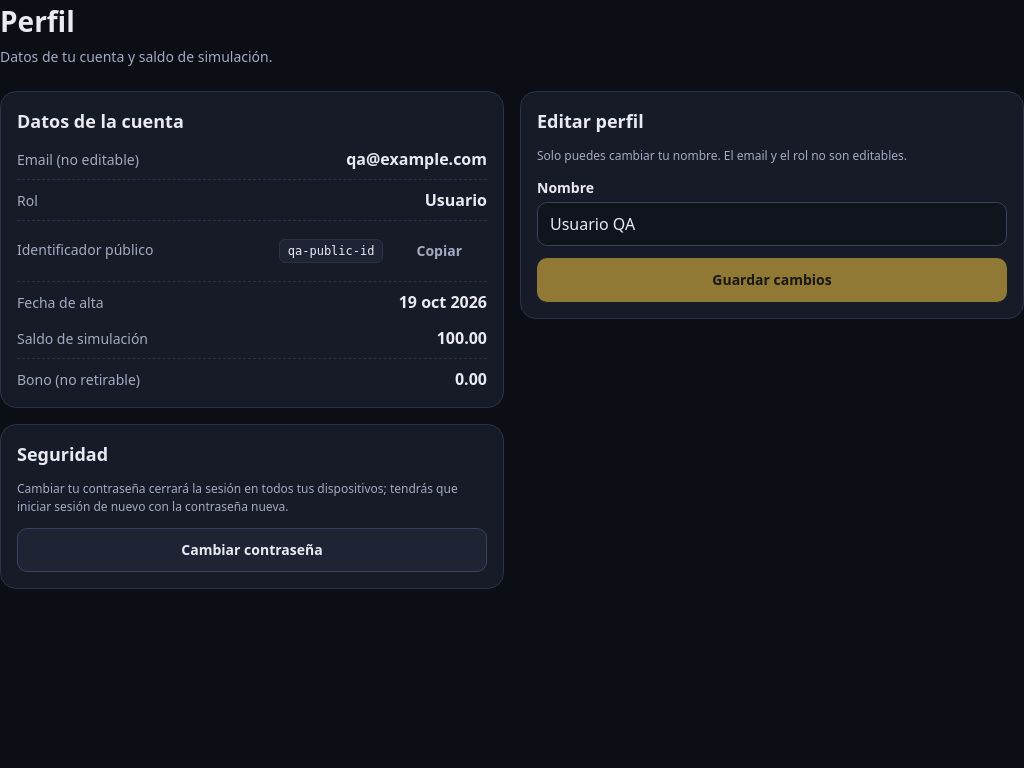
Test case: cambio de contraseña desde el perfil › muestra el mensaje del backend si la contraseña actual es incorrecta
Click the button "Cambiar contraseña" at (252, 550), box [17, 528, 487, 572]
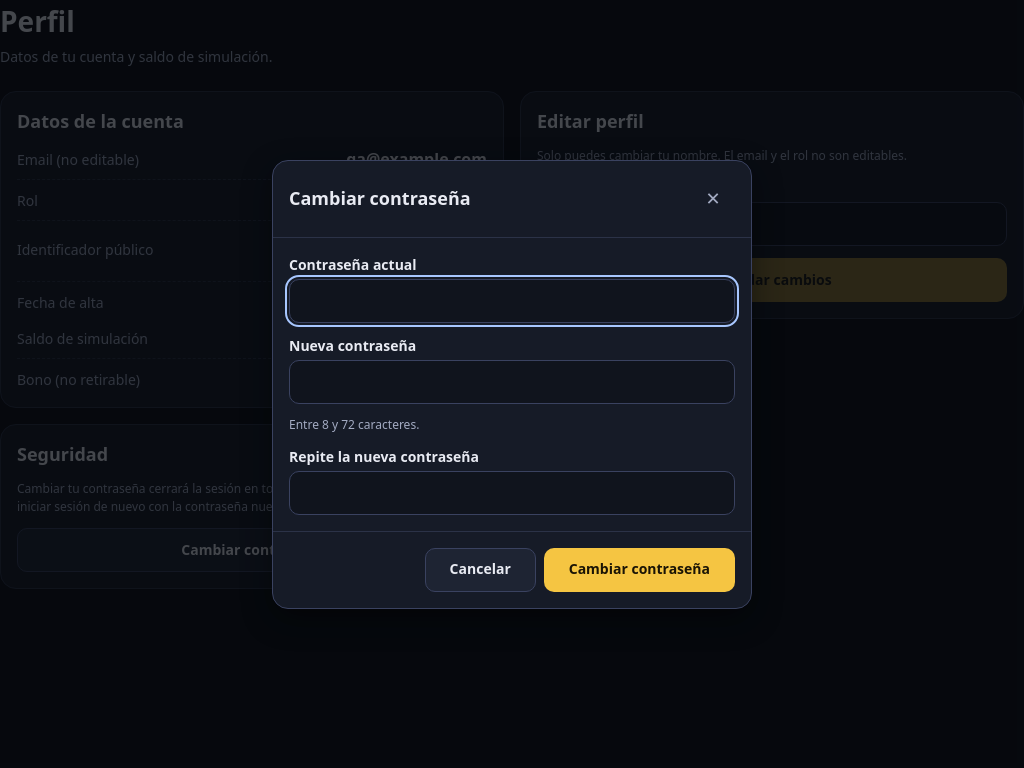
Type "incorrecta-1" into the password field labelled "Contraseña actual" at (512, 300), box [289, 278, 735, 322]
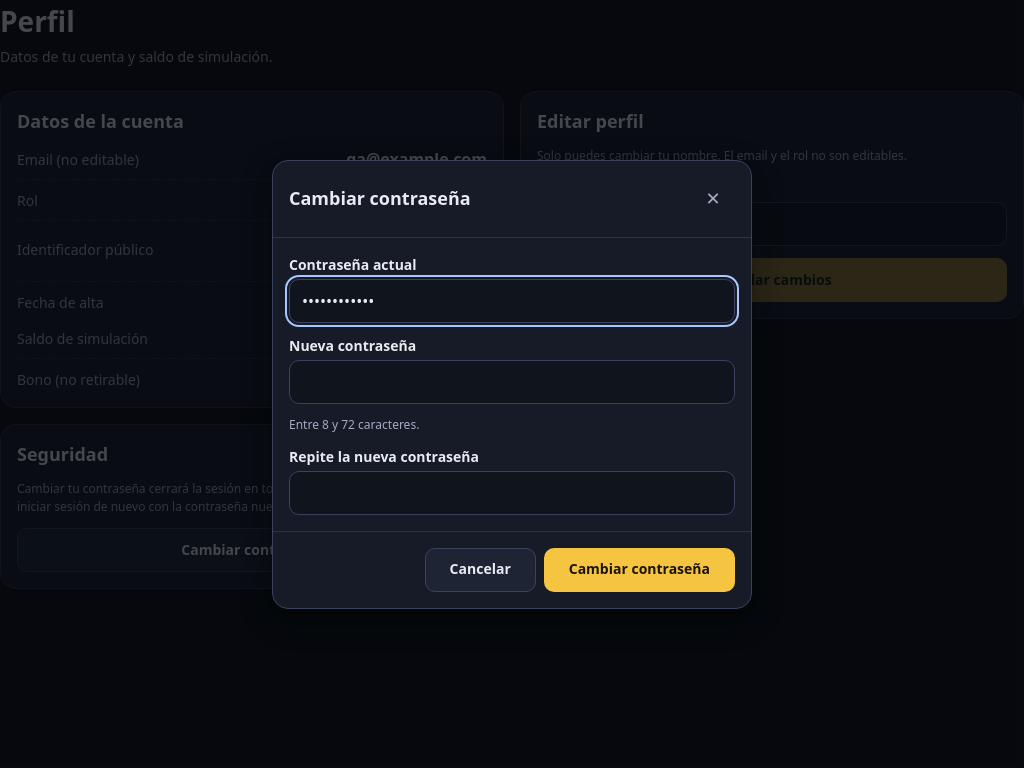
Type "clave-nueva-2" into the password field labelled "Nueva contraseña" at (512, 382), box [289, 360, 735, 404]
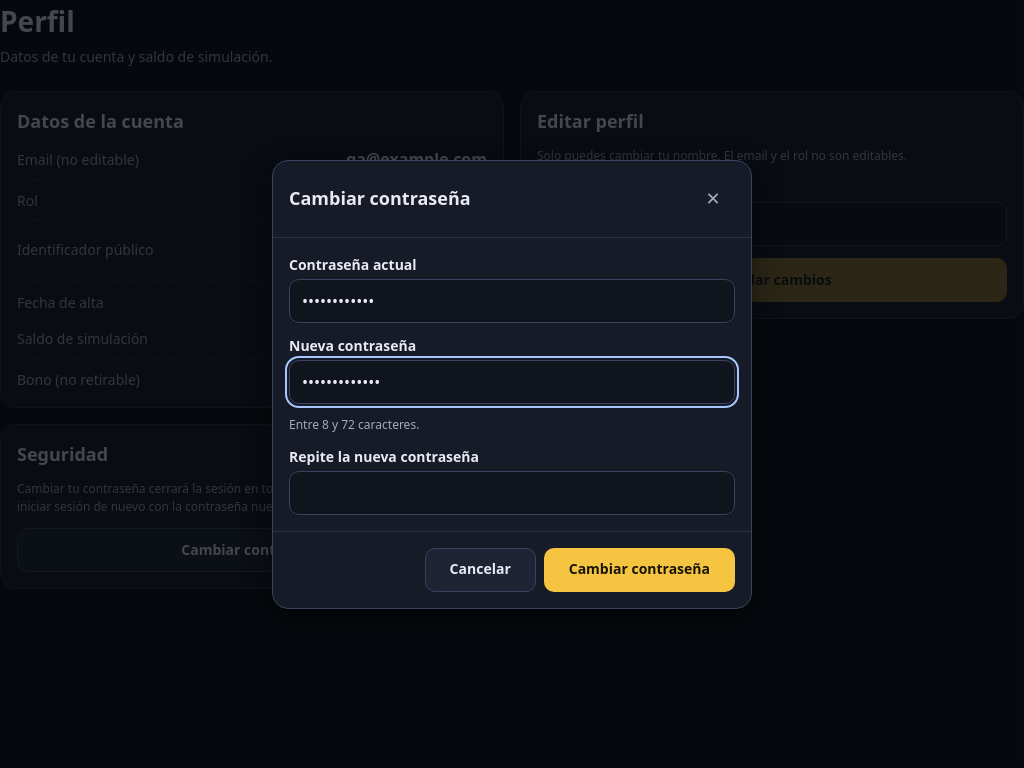
Type "clave-nueva-2" into the password field labelled "Repite la nueva contraseña" at (512, 492), box [289, 470, 735, 514]
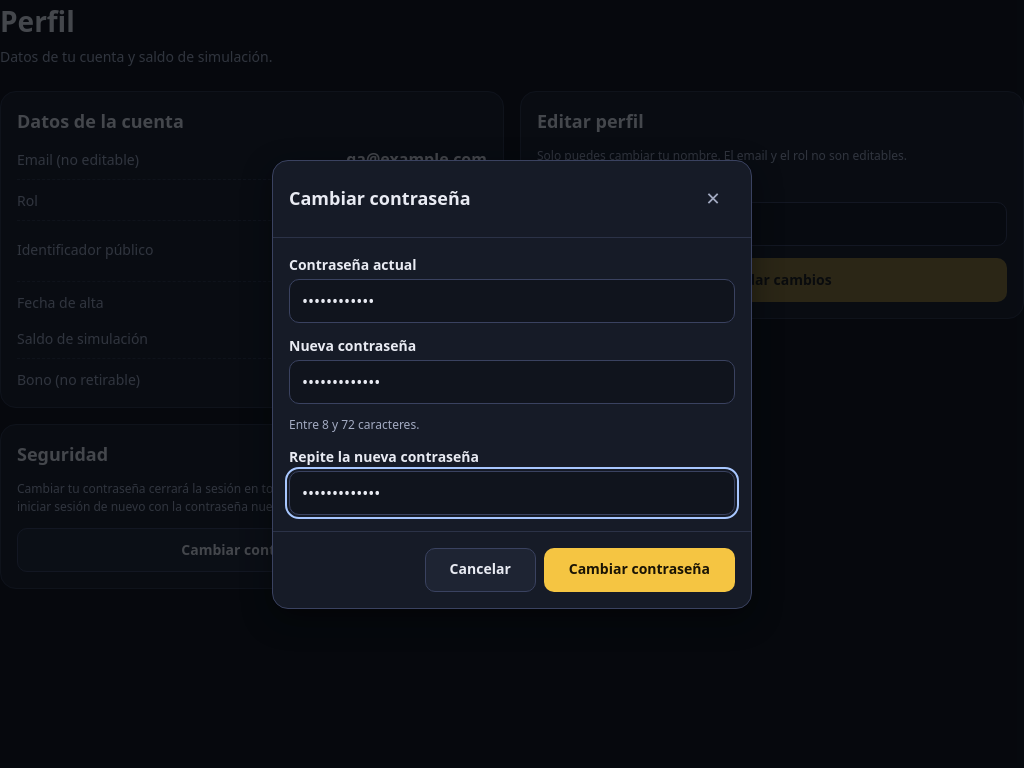
Click the button "Cambiar contraseña" below "Repite la nueva contraseña" at (639, 570), box [544, 548, 735, 592]
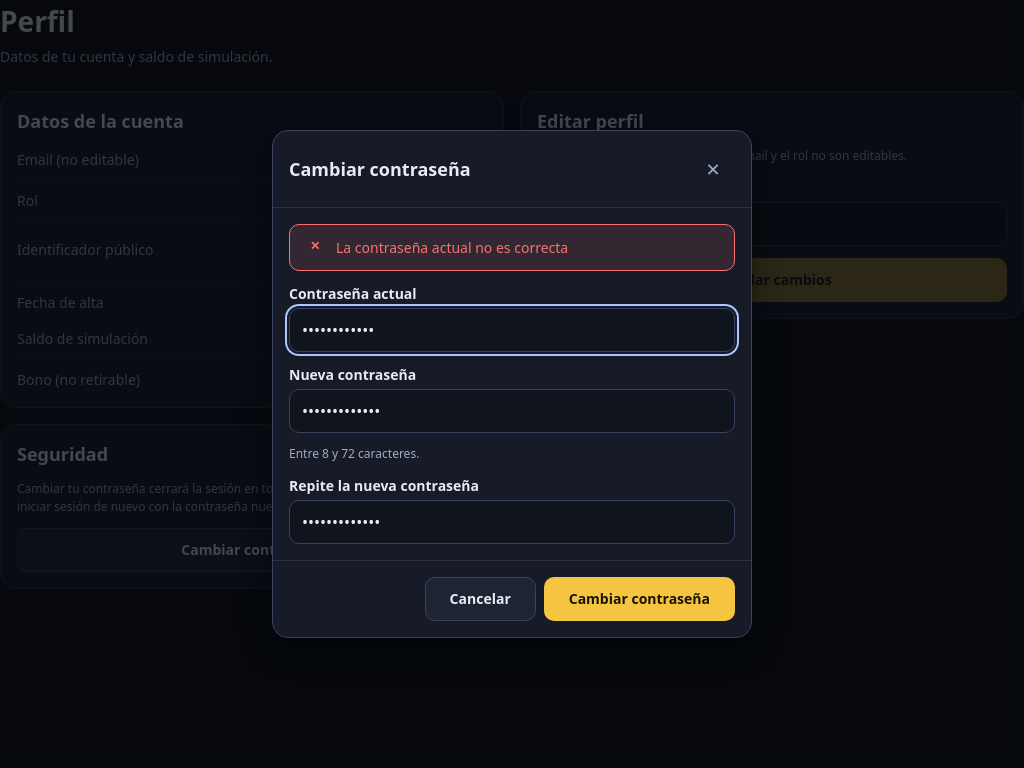
Expected: the text "La contraseña actual no es correcta" is shown, [336, 237, 568, 258]
